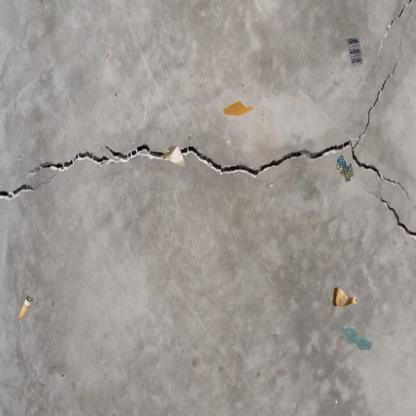dirty: (159, 144, 188, 171), (334, 151, 356, 184), (330, 284, 360, 308), (346, 36, 364, 66), (18, 294, 32, 320)
liquid: (341, 325, 374, 352), (222, 99, 254, 117)
